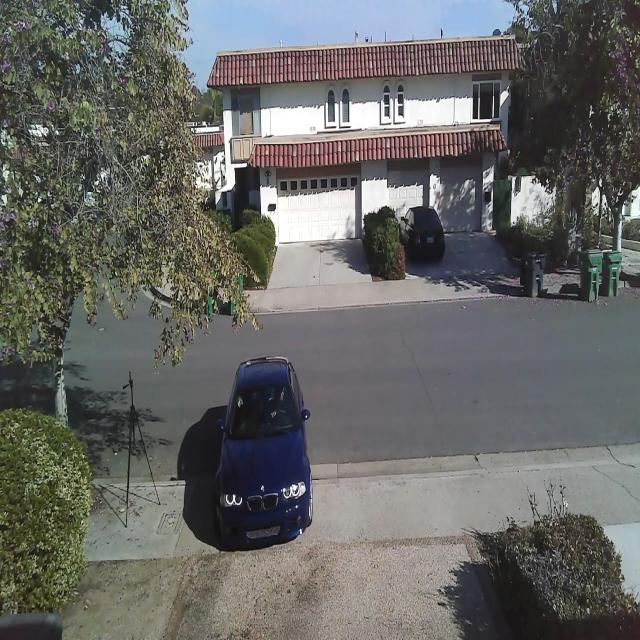Carbeetle: (193, 338, 329, 582)
